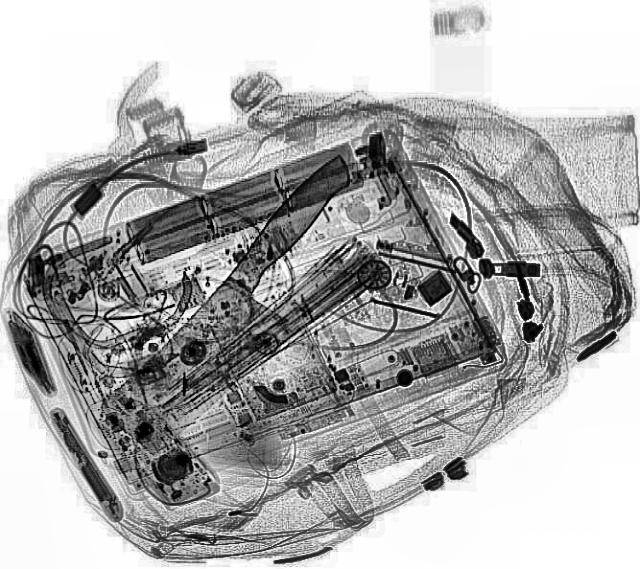Knife: (83, 146, 411, 464)
